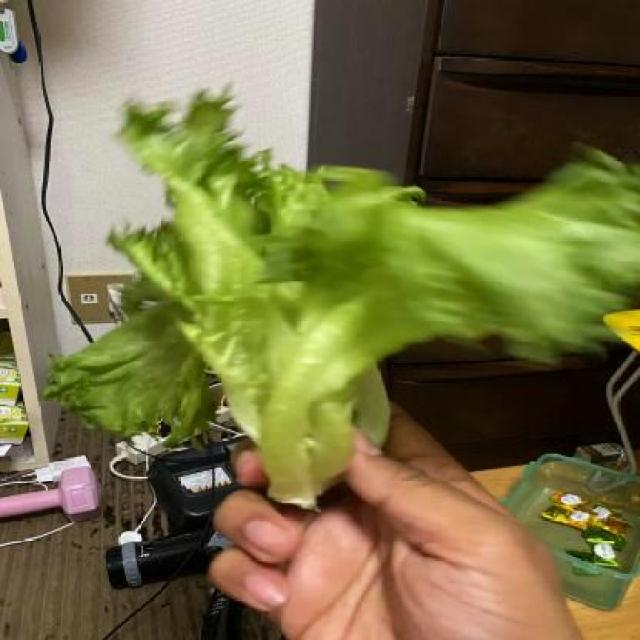Lettuce: (46, 85, 640, 506)
